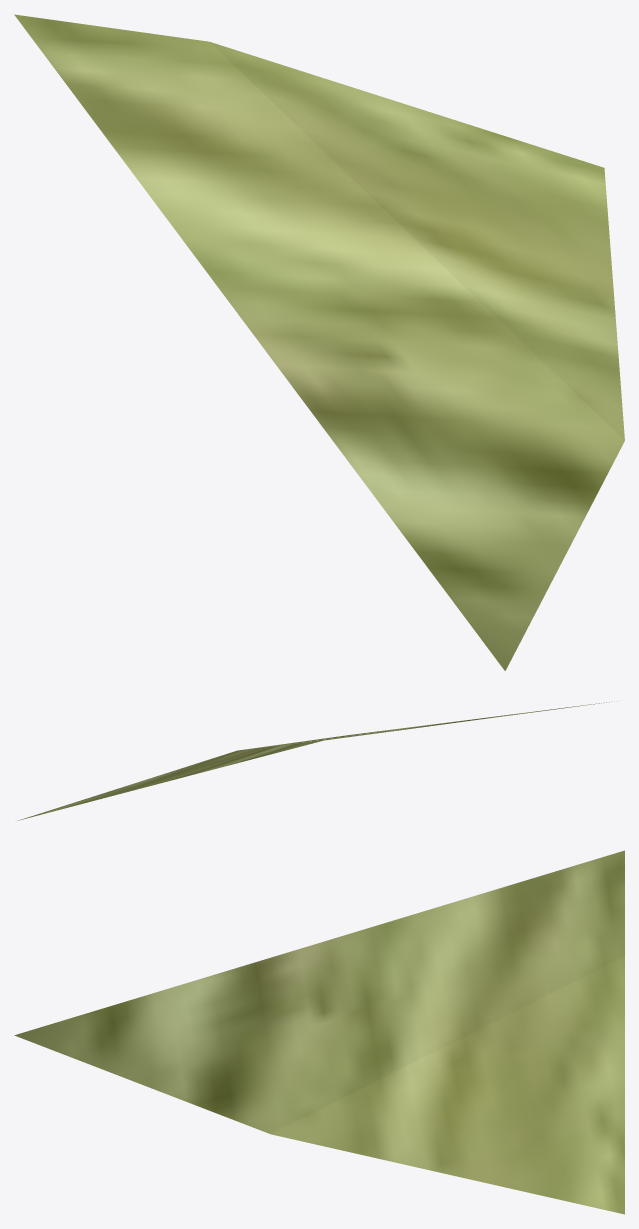
3 renders of one model, top to bottom at view 1: azimuth 30°, elevation 25°; view 2: azimuth 150°, elevation 25°; view 3: azimuth 270°, elevation 25°, orthographic. The views are drawn at different scales.
Bounding box in the file's own units: 0.6269 × 0.3017 × 0.9034.
Materials: 1 (1 with a texture image).
